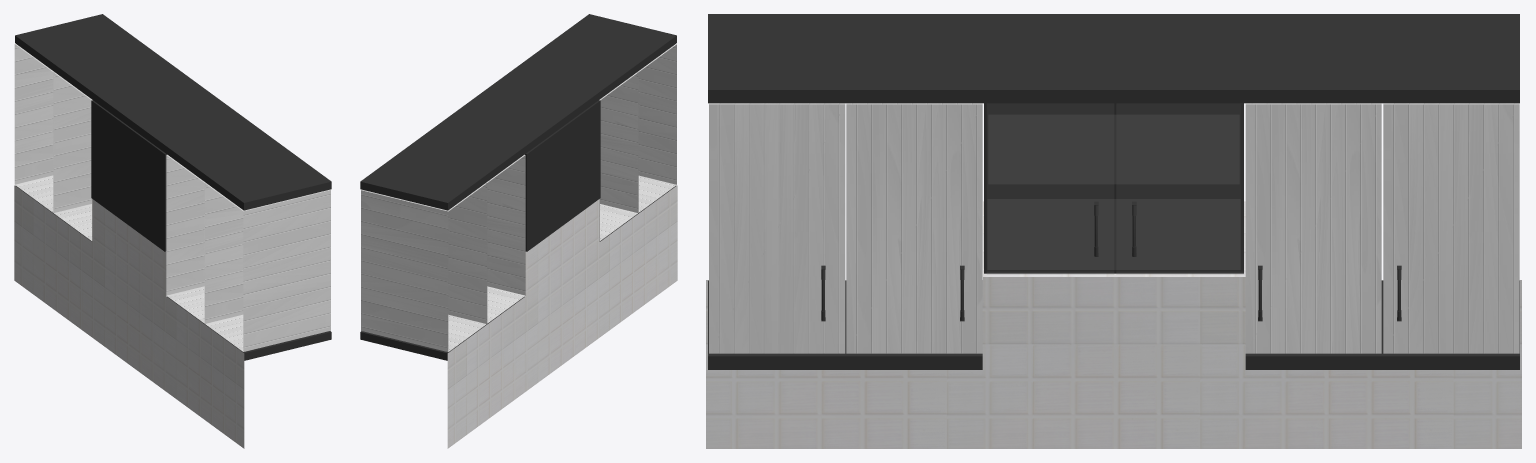
Rendered from Kitchen_cabinet.FBX.
3 views of the same model, side by side, from view 1: azimuth 30°, elevation 25°; view 2: azimuth 150°, elevation 25°; view 3: azimuth 270°, elevation 25° (orthographic). The views are drawn at different scales.
Parts seen in each view (by area): view 1: Plane007, Box039, Box032, Box037, Box049, Box033; view 2: Plane007, Box037, Box032, Box039, Box049, Box033; view 3: Plane007, Box032, Box039, Box037, Box049, Box047, Box033, Box052.
Part boxes in pixels (box(x1,y1,x2,y2)): Plane007: box(14, 185, 244, 448); Box039: box(166, 154, 330, 351); Box032: box(15, 14, 331, 210); Box037: box(14, 44, 92, 240); Box049: box(91, 100, 166, 251); Box033: box(15, 185, 331, 360); Plane007: box(447, 185, 677, 448); Box037: box(361, 154, 525, 351); Box032: box(360, 14, 676, 210); Box039: box(599, 44, 676, 240); Box049: box(525, 100, 600, 251); Box033: box(360, 185, 676, 360); Plane007: box(706, 201, 1521, 448); Box032: box(708, 14, 1519, 103); Box039: box(709, 103, 982, 353); Box037: box(1245, 103, 1519, 353); Box049: box(984, 103, 1243, 273); Box047: box(987, 104, 1243, 274); Box033: box(708, 280, 1519, 369); Box052: box(821, 201, 1401, 321).
Size of the model in its own units: 1149 by 2863 by 4864.
4 materials, 2 textured.
